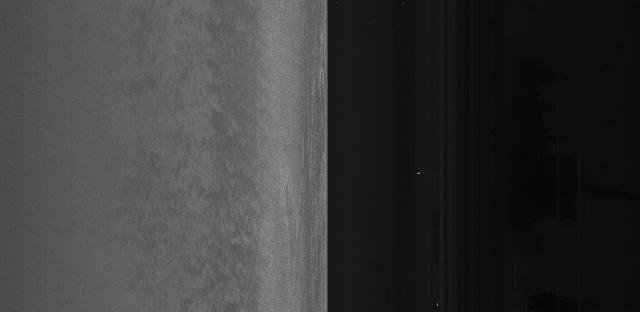silk_spot: (226, 71, 283, 241)
